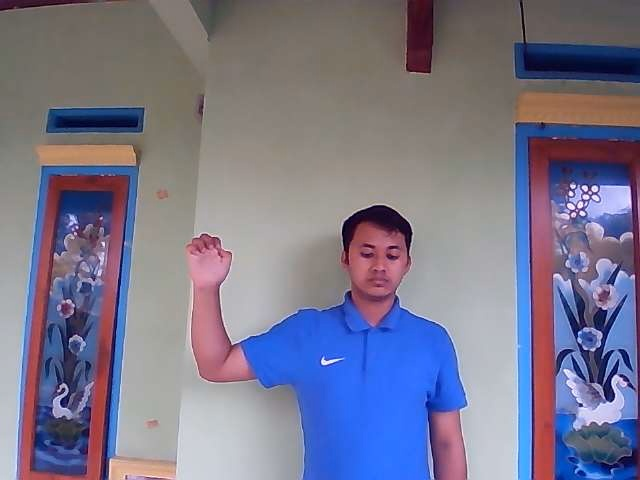E: (185, 233, 234, 289)
